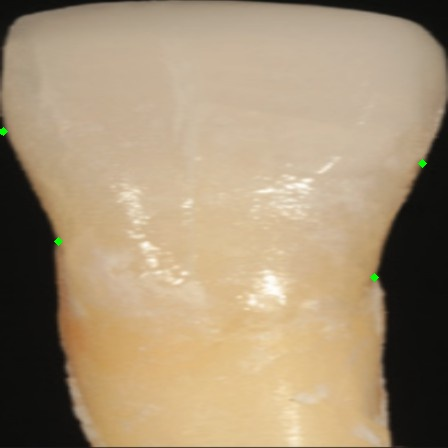coin_1: (374, 277, 394, 297)
coin_2: (422, 163, 442, 183)
coin_3: (58, 241, 78, 261)
coin_4: (3, 131, 23, 151)
